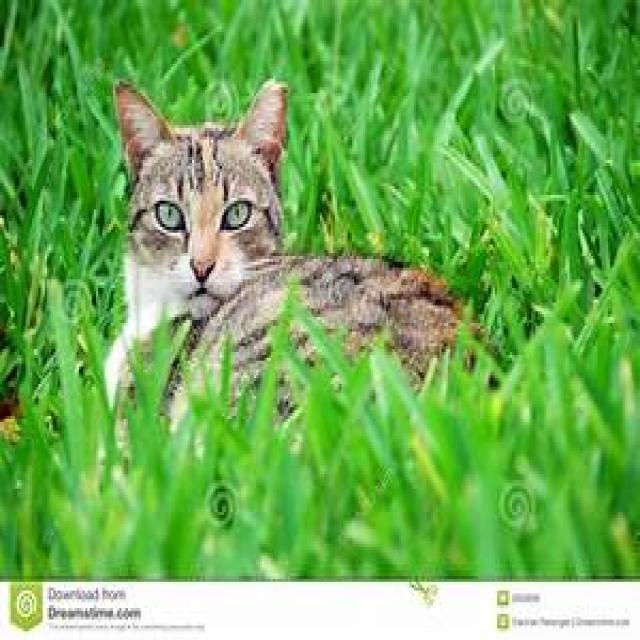animal: (101, 66, 486, 407)
